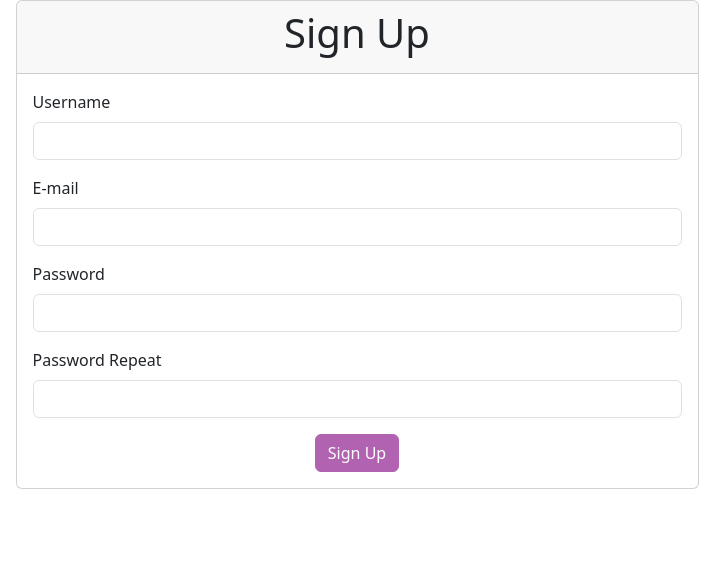
Test: Sign Up › when user sets same value for password inputs › when user submits form › when network failure occurs › when user submits again › hides error when api request is progress
Type "user1" into the field labelled "Username". click: (357, 141)
box: x1=32 y1=122 x2=682 y2=160
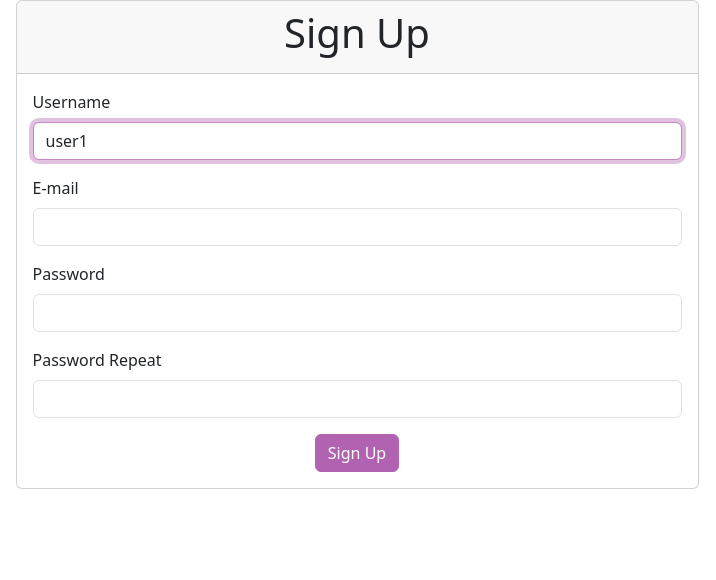
Type "user1@mail.com" into the field labelled "E-mail". click: (357, 227)
box: x1=32 y1=208 x2=682 y2=246
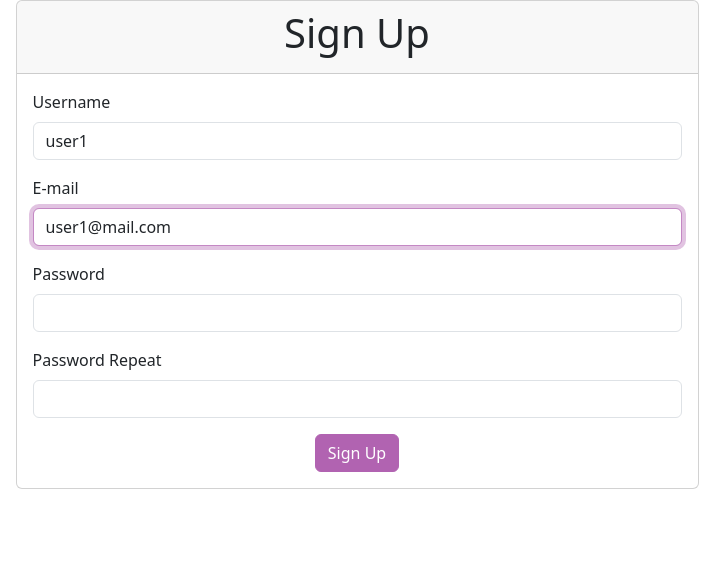
Type "P4ssword" into the password field labelled "Password". click: (357, 313)
box: x1=32 y1=294 x2=682 y2=332
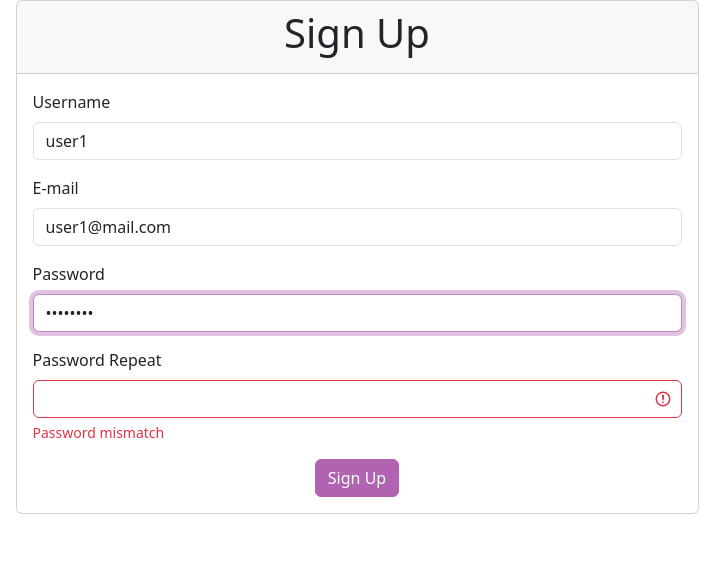
Type "P4ssword" into the password field labelled "Password Repeat". click: (357, 399)
box: x1=32 y1=380 x2=682 y2=418
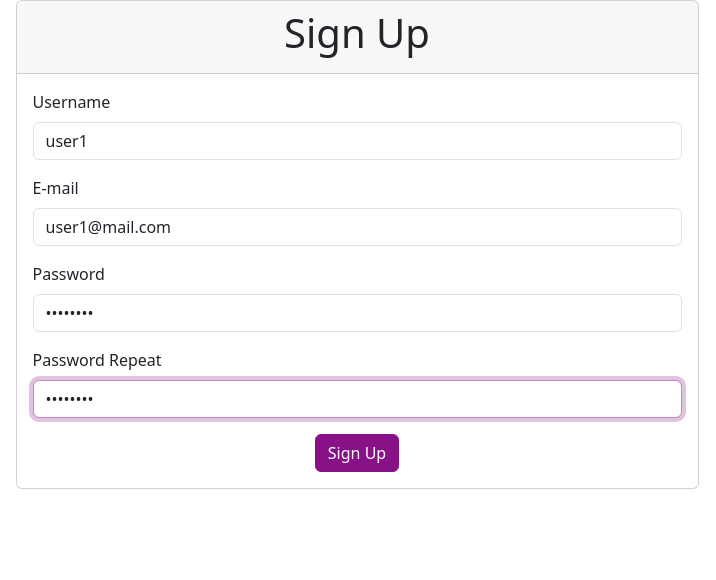
Click the button "Sign Up". click: (357, 453)
box: x1=315 y1=434 x2=399 y2=472
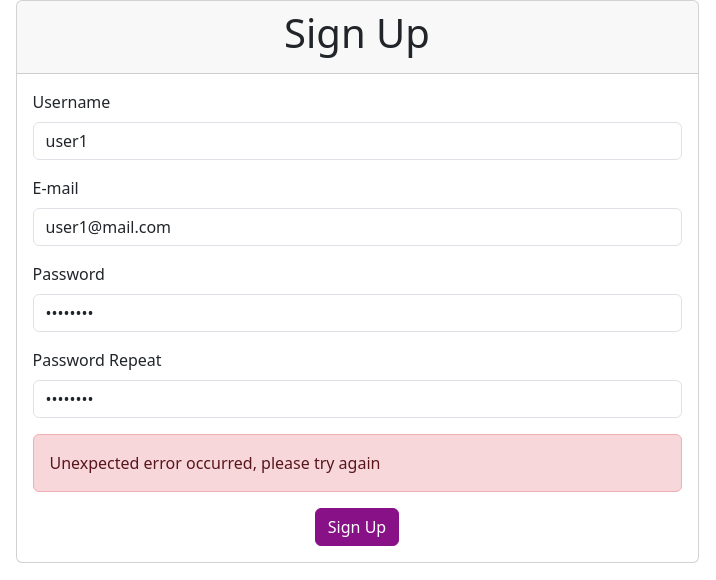
Click the button "Sign Up". click: (357, 527)
box: x1=315 y1=508 x2=399 y2=546
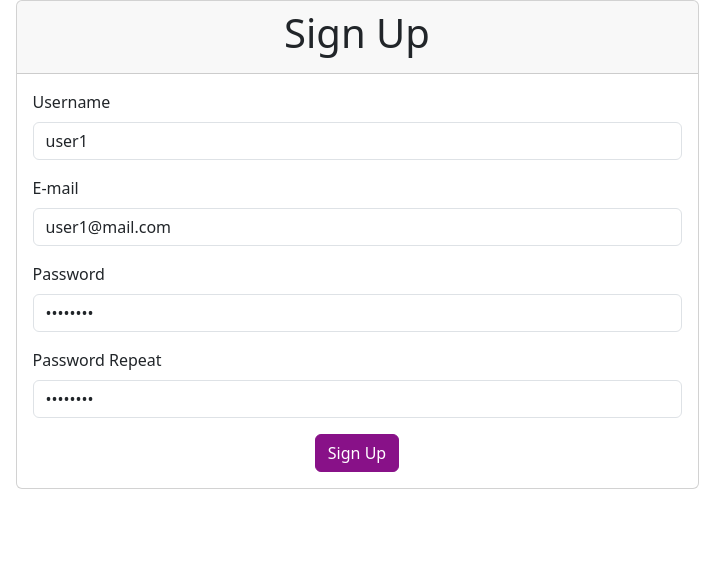
Expected: the text "Unexpected error occurred, please try again" is gone
